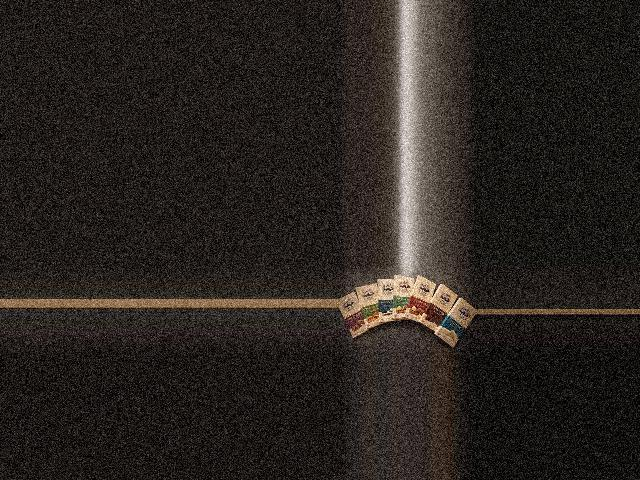chocolate: (434, 295, 474, 351)
